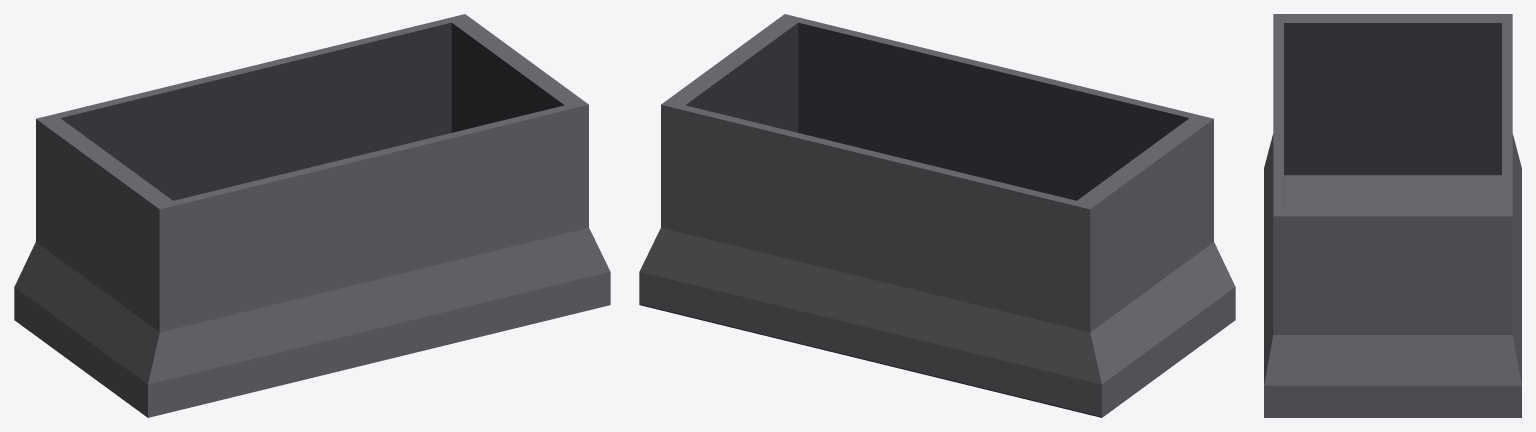
File: Tomb_Open_Unwrapped.FBX
3 renders of one model, left to right at view 1: azimuth 30°, elevation 25°; view 2: azimuth 150°, elevation 25°; view 3: azimuth 270°, elevation 25°, orthographic. The views are drawn at different scales.
Parts seen in each view (by area): view 1: Tomb_3; view 2: Tomb_3; view 3: Tomb_3.
Boxes of the visible parts, x1,y1,x2,y2 form: Tomb_3: (14,14,610,417); Tomb_3: (639,14,1235,417); Tomb_3: (1264,14,1521,417).
Size of the model in its own units: 2 by 0.8302 by 1.
